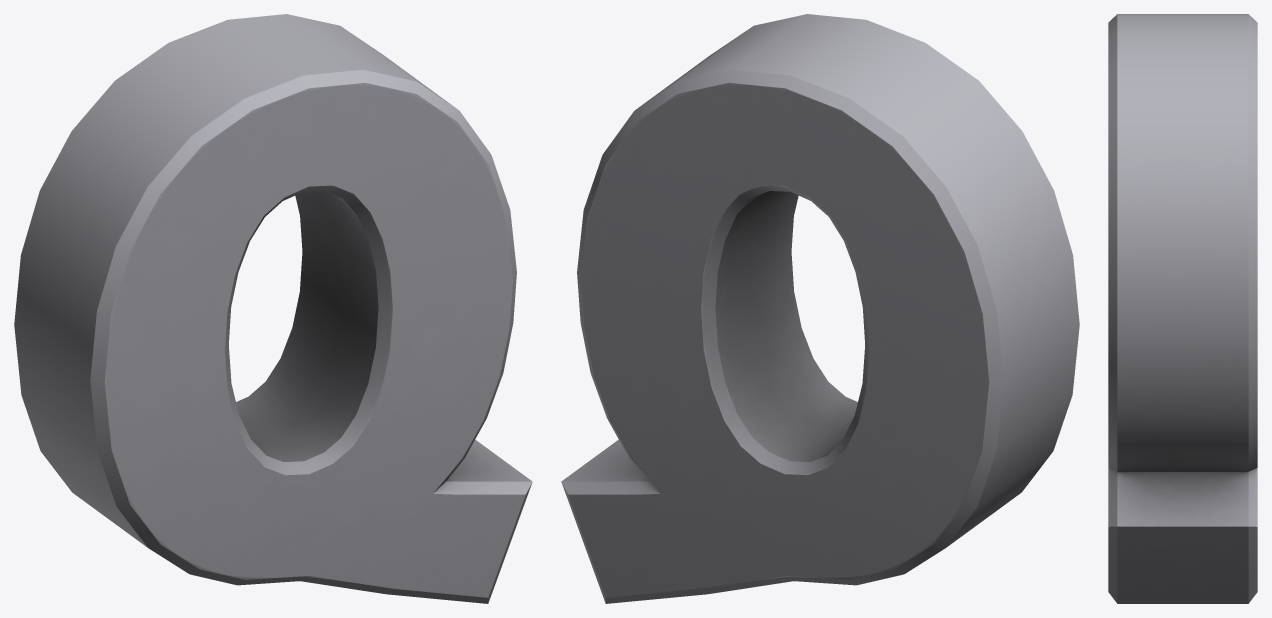
Rendered from Q_static.fbx.
The picture shows the model from 3 angles, left to right: view 1: azimuth 30°, elevation 25°; view 2: azimuth 150°, elevation 25°; view 3: azimuth 270°, elevation 25°; orthographic projection. The views are drawn at different scales.
Visible parts, largest first — view 1: Q_static; view 2: Q_static; view 3: Q_static.
Part boxes in pixels (<box>): Q_static: <box>14,14,532,603</box>; Q_static: <box>561,14,1079,603</box>; Q_static: <box>1108,14,1257,603</box>.
Bounding box in the file's own units: 97.35 × 121 × 33.
